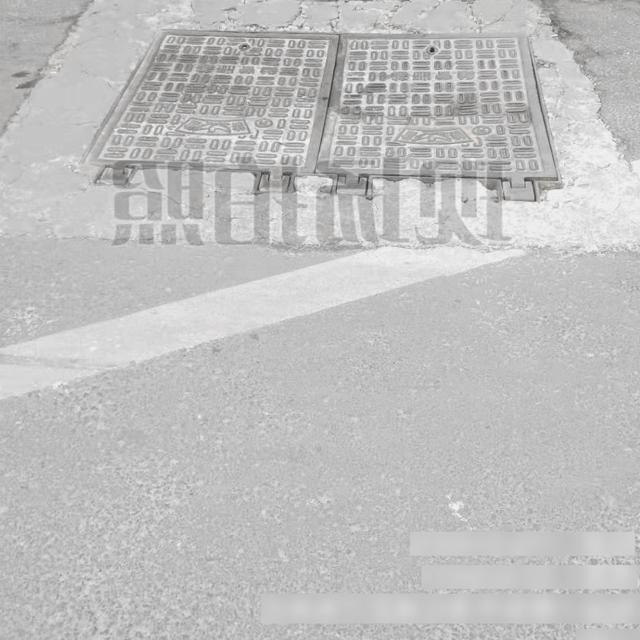good: (82, 30, 565, 205)
